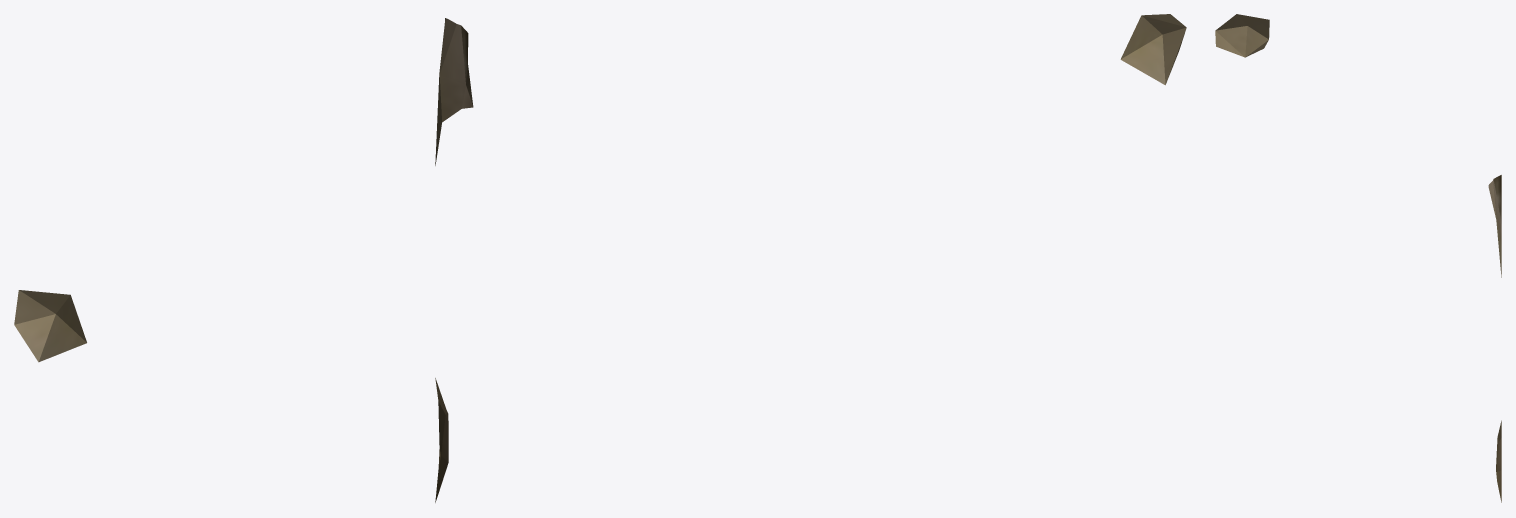
3 renders of one model, left to right at view 1: azimuth 30°, elevation 25°; view 2: azimuth 150°, elevation 25°; view 3: azimuth 270°, elevation 25°, orthographic. The views are drawn at different scales.
Size of the model in its own units: 0.2535 by 0.2098 by 0.1709.
1 material, 1 textured.
